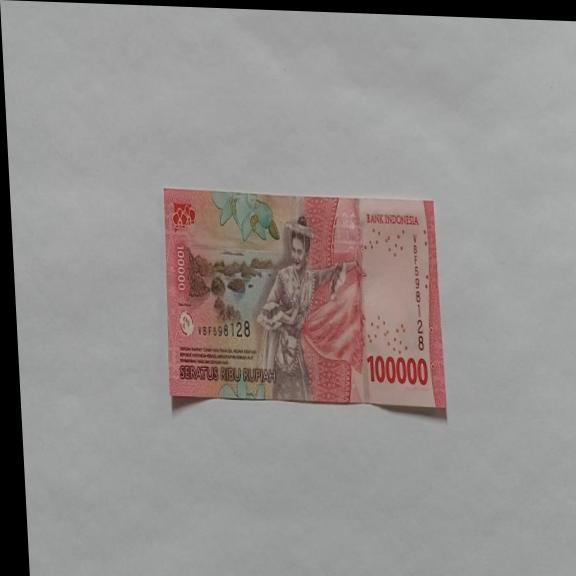Kertas: (158, 187, 447, 412), (366, 352, 429, 387)
